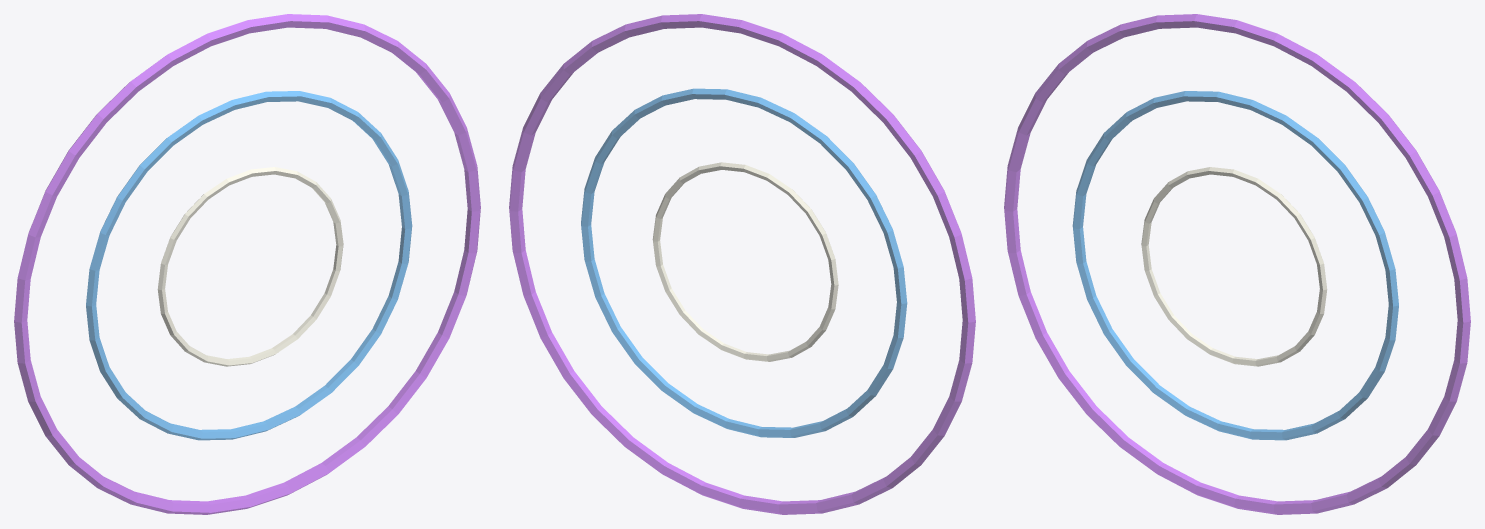
File: vfx_bass_drop_ring.glb
The picture shows the model from 3 angles, left to right: view 1: azimuth 30°, elevation 25°; view 2: azimuth 150°, elevation 25°; view 3: azimuth 330°, elevation 25°; orthographic projection.
Visible parts, largest first — view 1: outer, mid, inner; view 2: outer, mid, inner; view 3: outer, mid, inner.
Boxes of the visible parts, bbox=[...] form: outer: bbox=[14, 14, 480, 514]; mid: bbox=[86, 91, 412, 440]; inner: bbox=[157, 167, 343, 366]; outer: bbox=[509, 14, 975, 514]; mid: bbox=[581, 88, 907, 437]; inner: bbox=[652, 162, 838, 361]; outer: bbox=[1004, 14, 1470, 514]; mid: bbox=[1072, 91, 1398, 440]; inner: bbox=[1141, 167, 1327, 366].
Size of the model in its own units: 3.39 by 3.39 by 0.1066.
